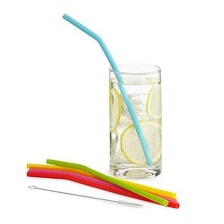drinking_straw: (59, 7, 155, 169)
glass: (104, 58, 167, 183)
